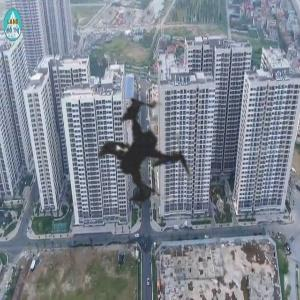drone: (2, 4, 296, 298)
